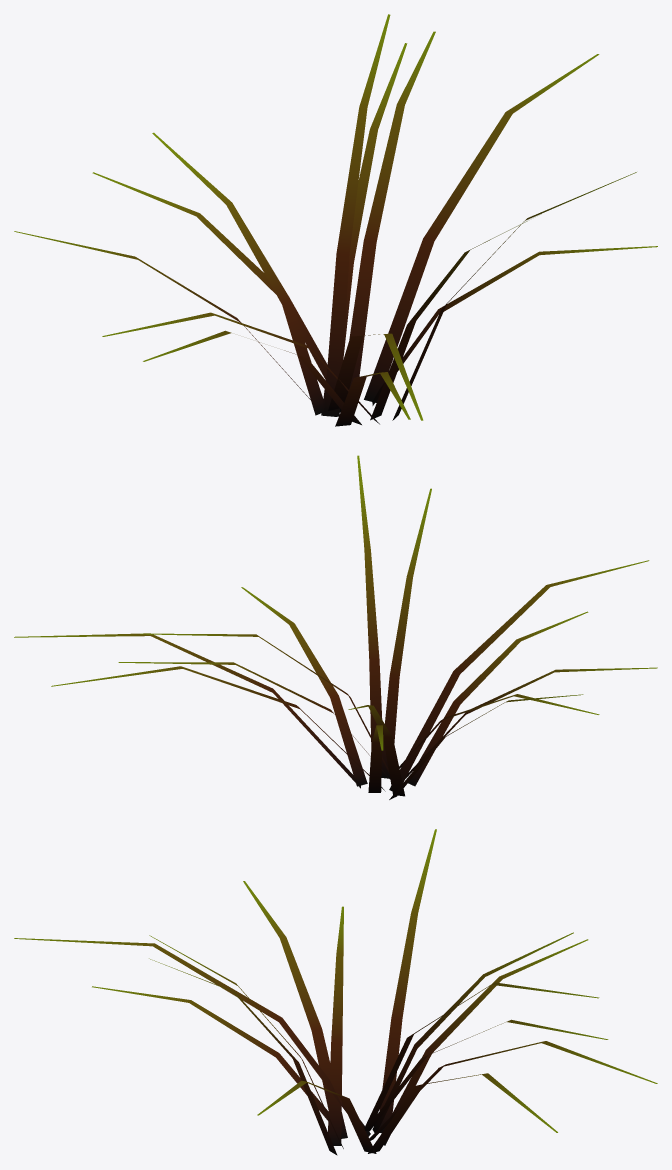
The model's file is rice_b.glb.
3 renders of one model, top to bottom at view 1: azimuth 30°, elevation 25°; view 2: azimuth 150°, elevation 25°; view 3: azimuth 270°, elevation 25°, orthographic. The views are drawn at different scales.
Visible parts, largest first — view 1: rice_b; view 2: rice_b; view 3: rice_b.
Boxes of the visible parts, box(x1,y1,x2,y2) form: rice_b: box(14, 14, 657, 426); rice_b: box(14, 455, 657, 799); rice_b: box(14, 829, 657, 1155).
Bounding box in the file's own units: 1.41 × 0.6009 × 1.4.
1 material, 1 textured.
